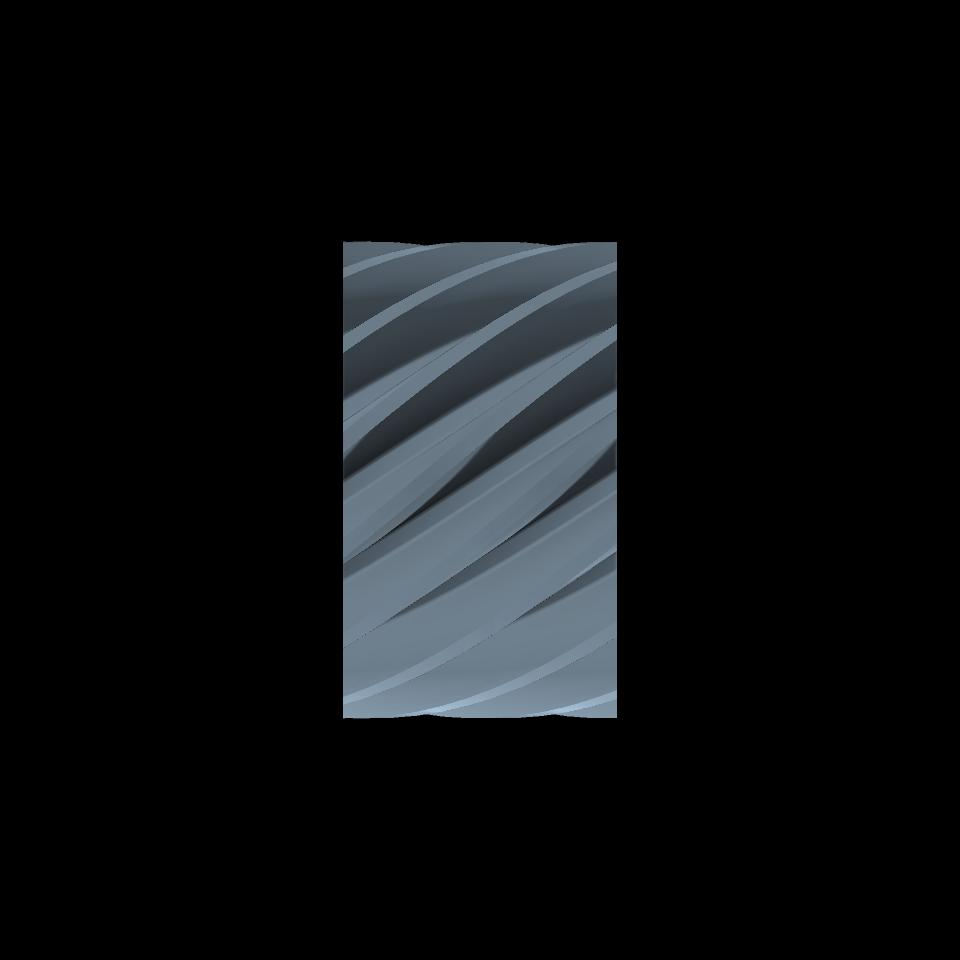Helical: (342, 242, 616, 718)
